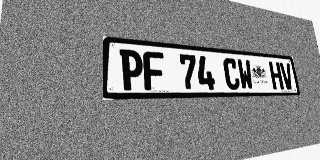4: (196, 55, 216, 90)
7: (178, 54, 199, 90)
C: (222, 58, 241, 90)
F: (143, 51, 166, 90)
H: (268, 61, 284, 90)
P: (120, 49, 144, 90)
V: (279, 62, 294, 89)
W: (237, 59, 254, 90)
